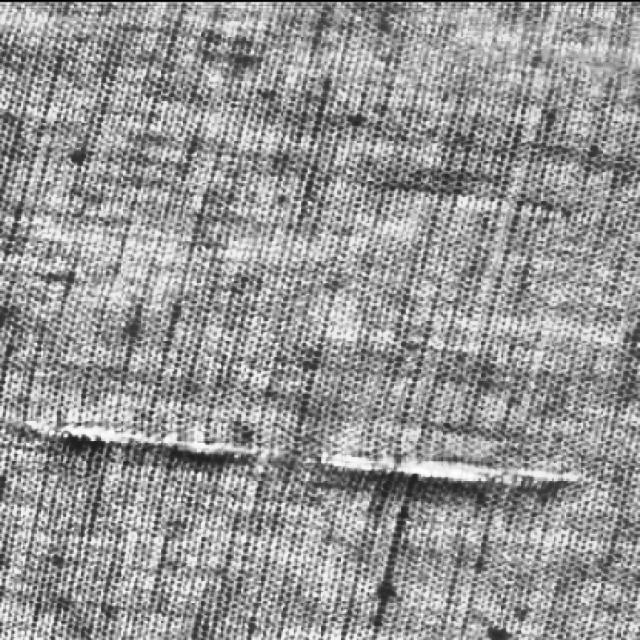thread_error: (3, 389, 599, 509)
